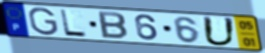6: (133, 13, 161, 42), (172, 16, 201, 44)
B: (97, 10, 130, 41)
G: (27, 7, 61, 37)
L: (58, 8, 90, 39)
U: (201, 15, 238, 47)
